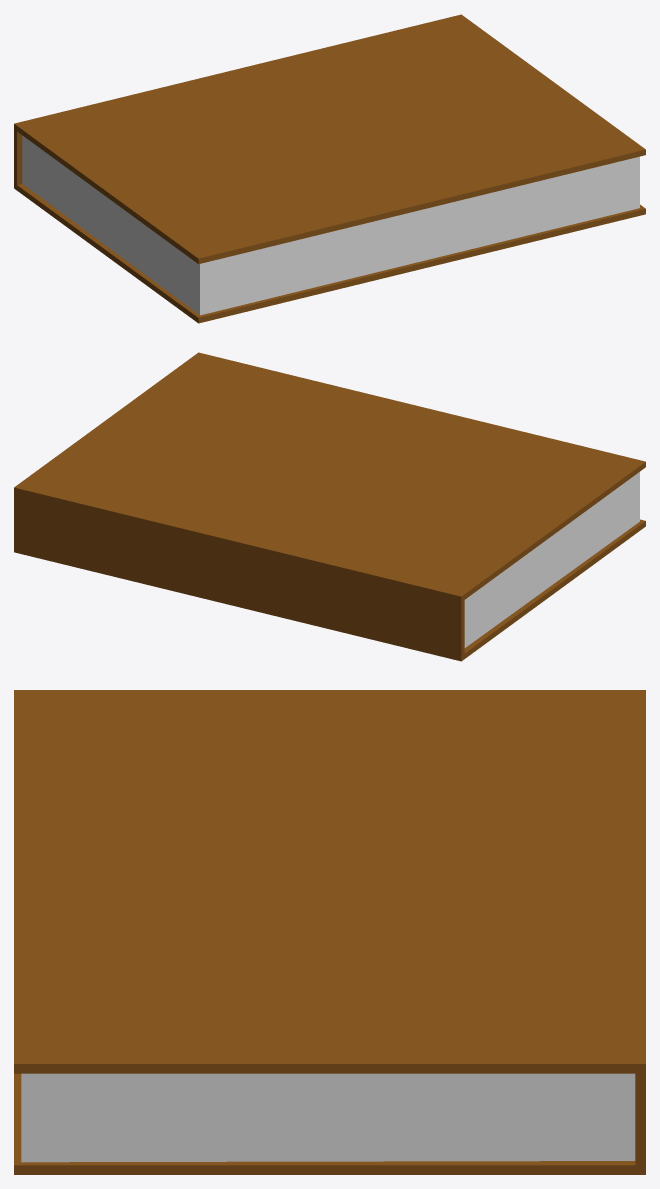
File: ThrowProp_BookMediumBrown.FBX
3 renders of one model, top to bottom at view 1: azimuth 30°, elevation 25°; view 2: azimuth 150°, elevation 25°; view 3: azimuth 270°, elevation 25°, orthographic. The views are drawn at different scales.
Visible parts, largest first — view 1: Book_MediumBrown; view 2: Book_MediumBrown; view 3: Book_MediumBrown.
Part boxes in pixels (<box>): Book_MediumBrown: <box>14,14,645,323</box>; Book_MediumBrown: <box>14,352,645,661</box>; Book_MediumBrown: <box>14,690,645,1174</box>.
Size of the model in its own units: 19.15 by 2.65 by 13.68.
Materials: 1 (1 with a texture image).
